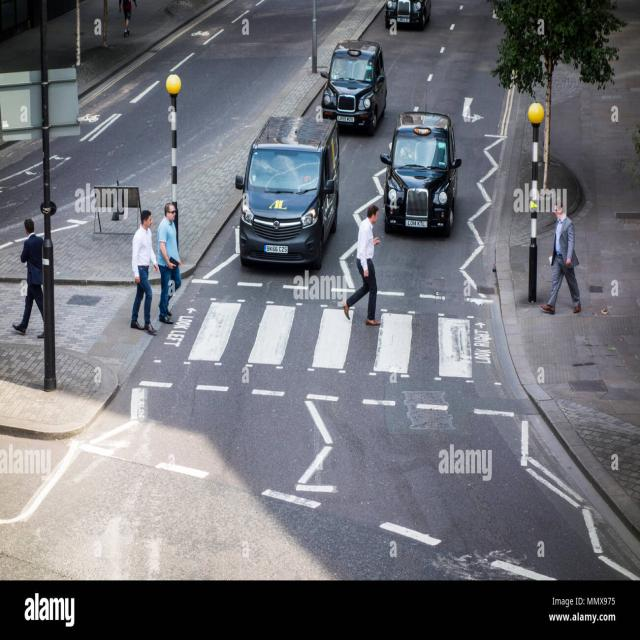Passenger Car: (236, 118, 339, 270), (385, 114, 456, 235), (322, 39, 388, 134), (384, 0, 429, 32)
Pedestrians: (342, 205, 386, 328), (540, 205, 582, 312), (11, 215, 42, 339), (128, 208, 158, 336), (156, 202, 184, 327)
